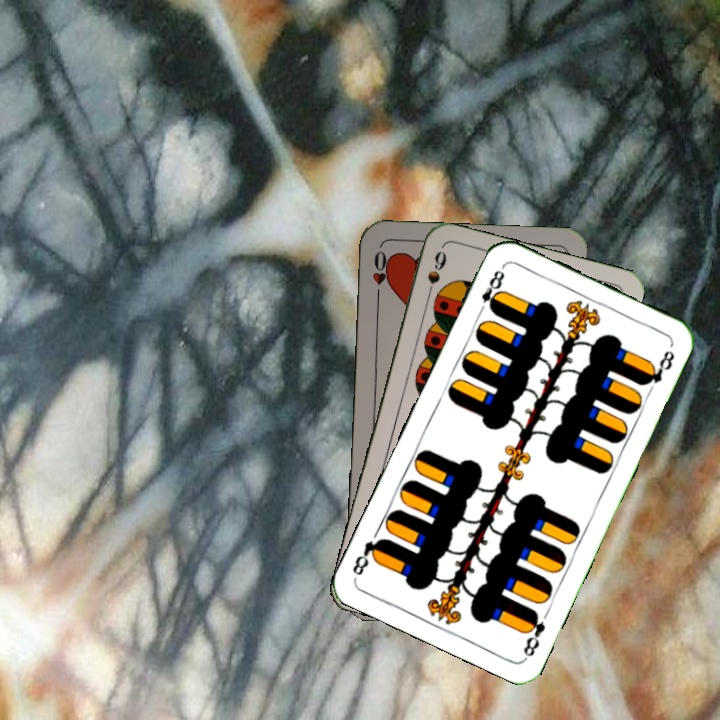E8: (474, 266, 507, 318), (519, 606, 548, 660)
HO: (368, 246, 392, 304)
S9: (422, 246, 449, 304)
